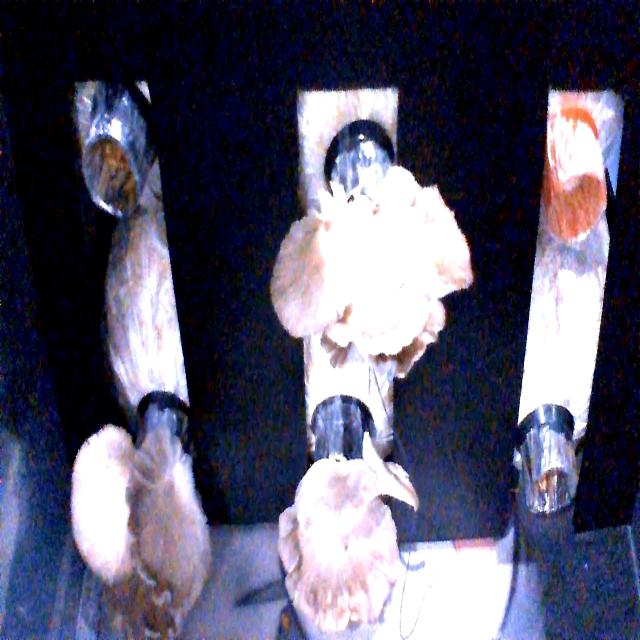big: (274, 192, 457, 363), (67, 428, 227, 612), (275, 449, 409, 630)
nfound: (541, 167, 606, 256), (82, 124, 145, 215), (524, 454, 578, 520)
